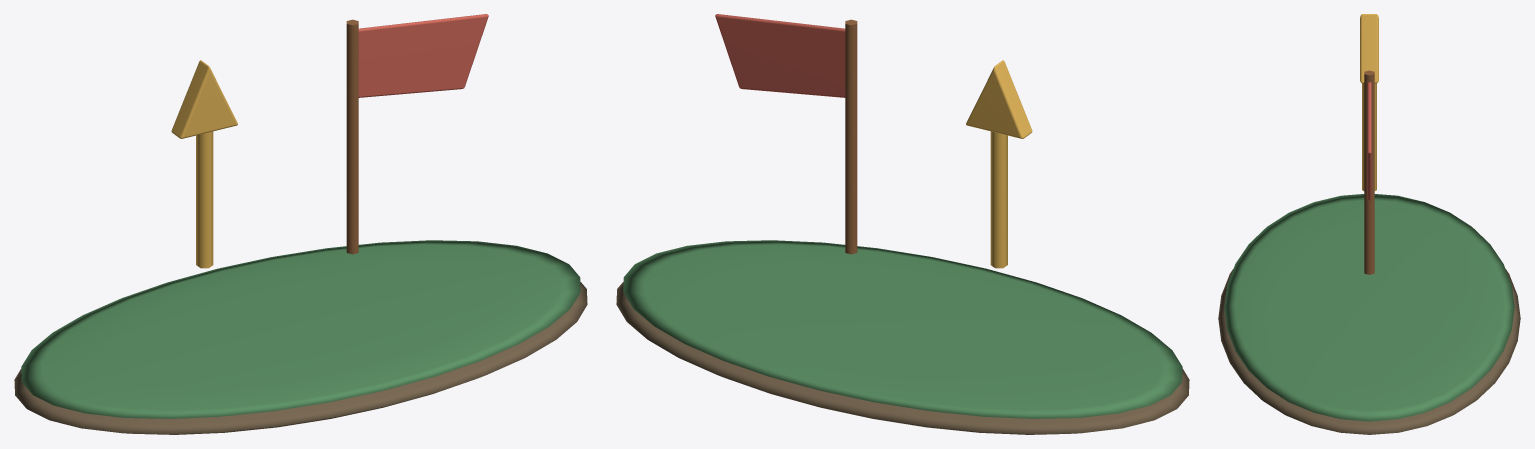
File: north-flag.glb
3 renders of one model, left to right at view 1: azimuth 30°, elevation 25°; view 2: azimuth 150°, elevation 25°; view 3: azimuth 270°, elevation 25°, orthographic. The views are drawn at different scales.
Visible parts, largest first — view 1: north-flag_surface_01, north-flag_surface_00, north-flag_surface_04, north-flag_surface_02, north-flag_surface_03; view 2: north-flag_surface_01, north-flag_surface_00, north-flag_surface_04, north-flag_surface_02, north-flag_surface_03; view 3: north-flag_surface_01, north-flag_surface_00, north-flag_surface_03, north-flag_surface_02, north-flag_surface_04.
Part boxes in pixels (x1=…): north-flag_surface_01: x1=21, y1=240, x2=580, y2=418; north-flag_surface_00: x1=14, y1=282, x2=587, y2=434; north-flag_surface_04: x1=358, y1=14, x2=488, y2=97; north-flag_surface_02: x1=171, y1=60, x2=237, y2=268; north-flag_surface_03: x1=346, y1=19, x2=358, y2=254; north-flag_surface_01: x1=623, y1=240, x2=1182, y2=418; north-flag_surface_00: x1=616, y1=282, x2=1189, y2=434; north-flag_surface_04: x1=715, y1=14, x2=845, y2=97; north-flag_surface_02: x1=966, y1=60, x2=1032, y2=268; north-flag_surface_03: x1=845, y1=19, x2=857, y2=254; north-flag_surface_01: x1=1224, y1=194, x2=1514, y2=421; north-flag_surface_00: x1=1218, y1=269, x2=1520, y2=434; north-flag_surface_03: x1=1364, y1=70, x2=1374, y2=274; north-flag_surface_02: x1=1360, y1=14, x2=1378, y2=190; north-flag_surface_04: x1=1367, y1=82, x2=1371, y2=200.
Bounding box in the file's own units: 4.56 × 2.57 × 2.5.
